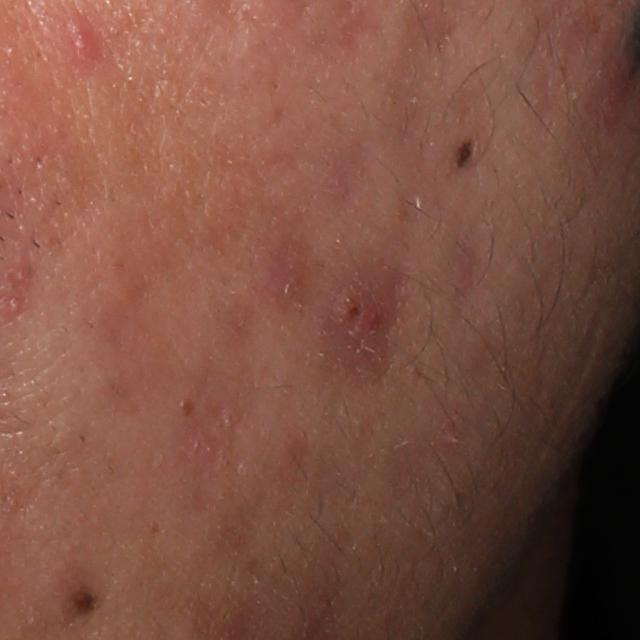nevus: (58, 576, 110, 625), (452, 137, 477, 167)
papule: (330, 278, 387, 334), (65, 20, 96, 64)
